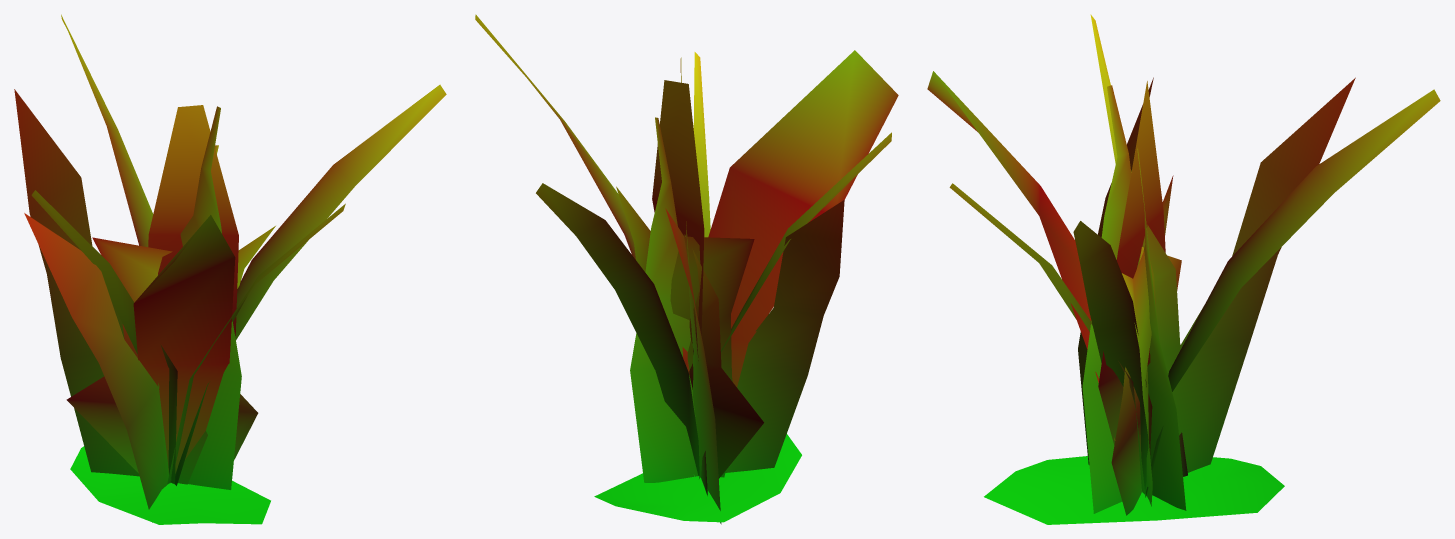
Rendered from Dead Finish_LOD0_Var4_ucokaamia.fbx.
3 views of the same model, side by side, from view 1: azimuth 30°, elevation 25°; view 2: azimuth 150°, elevation 25°; view 3: azimuth 270°, elevation 25° (orthographic). The views are drawn at different scales.
Parts seen in each view (by area): view 1: _vdjg_Var4_LOD0; view 2: _vdjg_Var4_LOD0; view 3: _vdjg_Var4_LOD0.
Boxes of the visible parts, <box> form: _vdjg_Var4_LOD0: <box>14,14,446,524</box>; _vdjg_Var4_LOD0: <box>475,14,898,524</box>; _vdjg_Var4_LOD0: <box>927,14,1440,524</box>.
Bounding box in the file's own units: 31.94 × 29.59 × 31.22.
